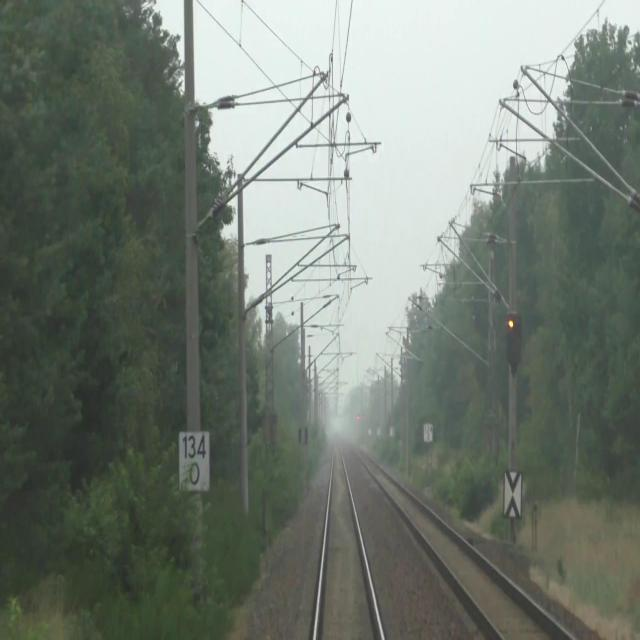rail-track: (373, 466, 569, 639), (318, 446, 379, 639)
